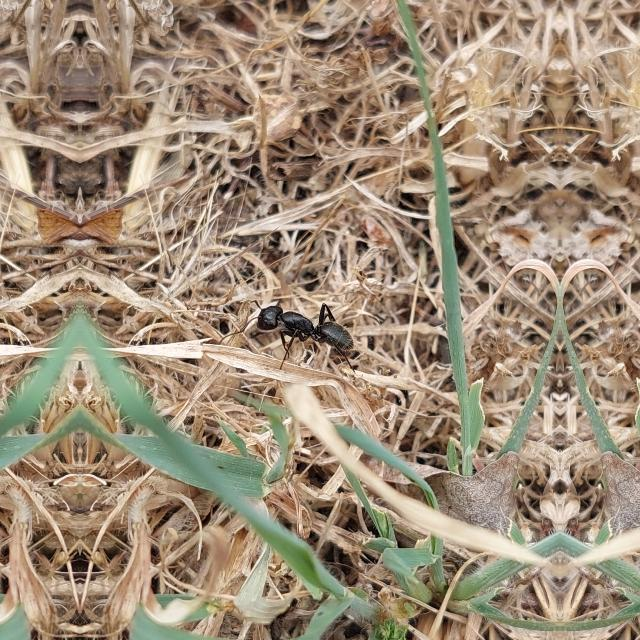Camponotus: (245, 283, 358, 363)
